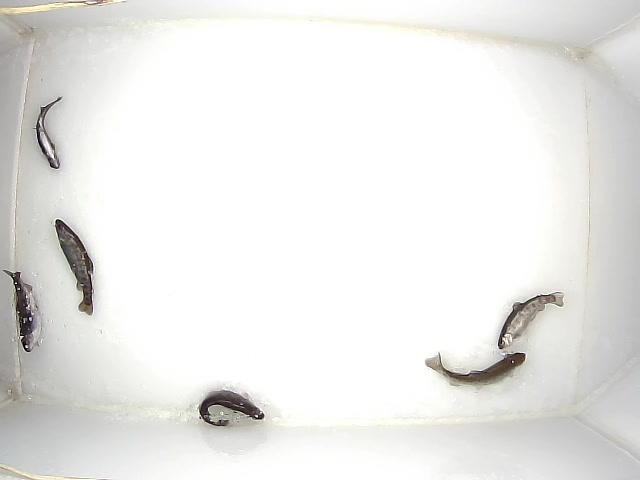fish: (498, 292, 564, 349), (425, 352, 526, 389), (55, 219, 93, 316), (2, 269, 41, 352), (199, 390, 265, 426), (33, 96, 63, 169)
